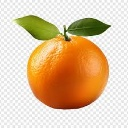orange: (25, 24, 110, 111)
